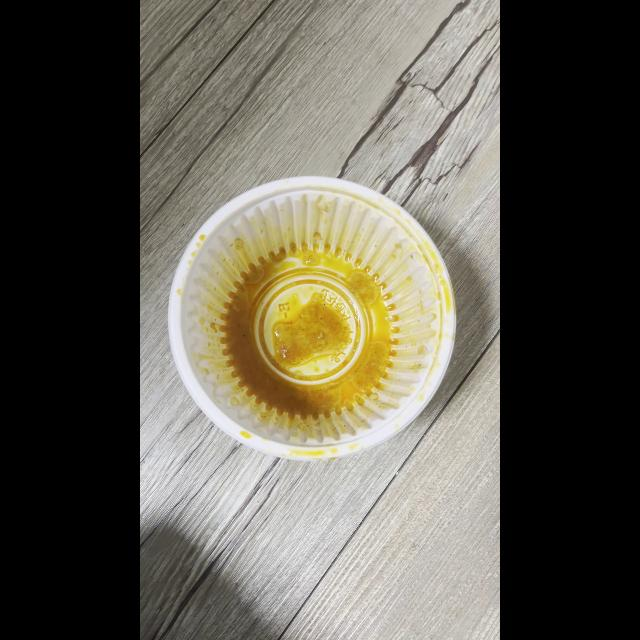dirty: (168, 180, 458, 458)
